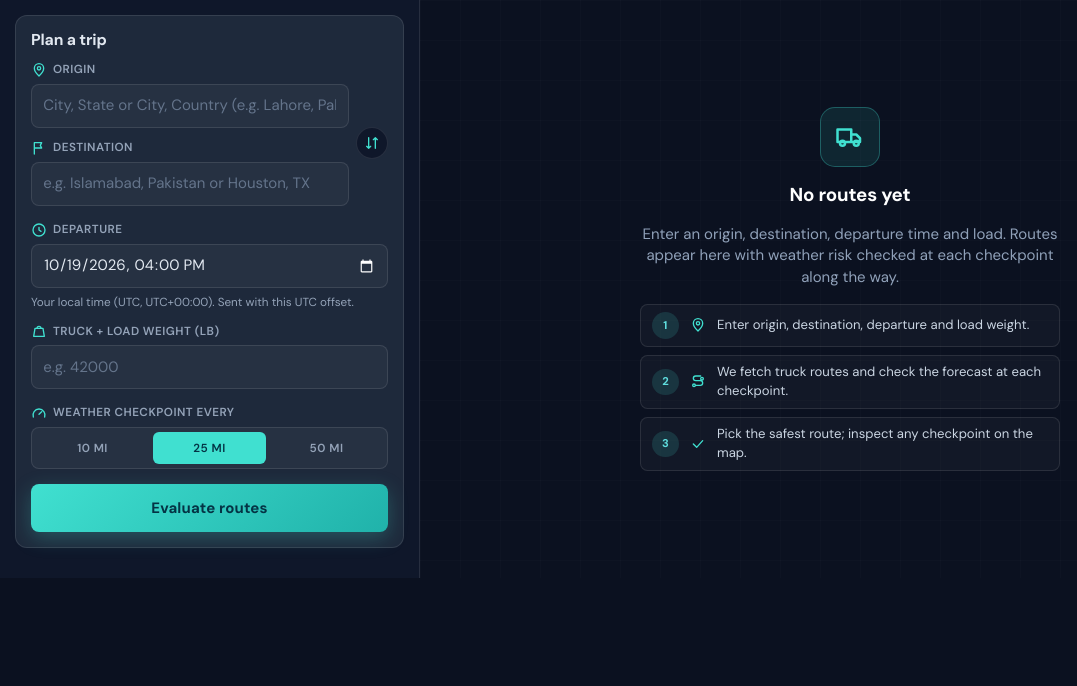
Test: RoutePlanner › shows server field errors and keeps entered values
This screenshot has width=1077, height=686.
Type "Waco, TX" into the dropdown labelled "Origin". click: (190, 106)
box: [31, 84, 348, 128]
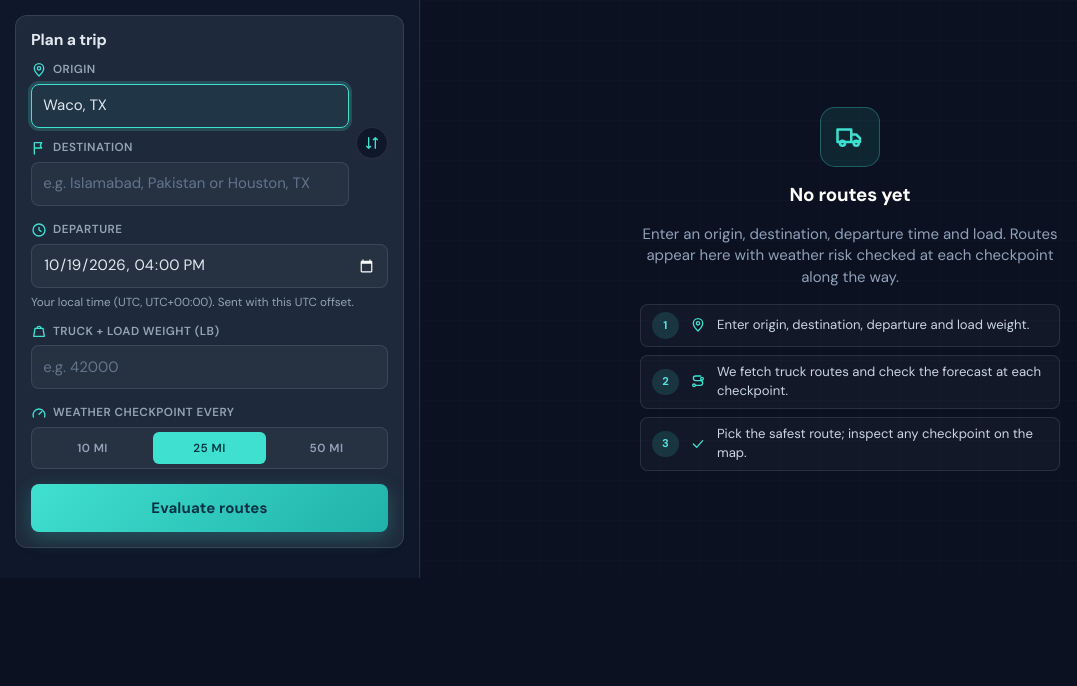
Type "Temple, TX" into the dropdown labelled "Destination". click: (190, 184)
box: [31, 162, 348, 206]
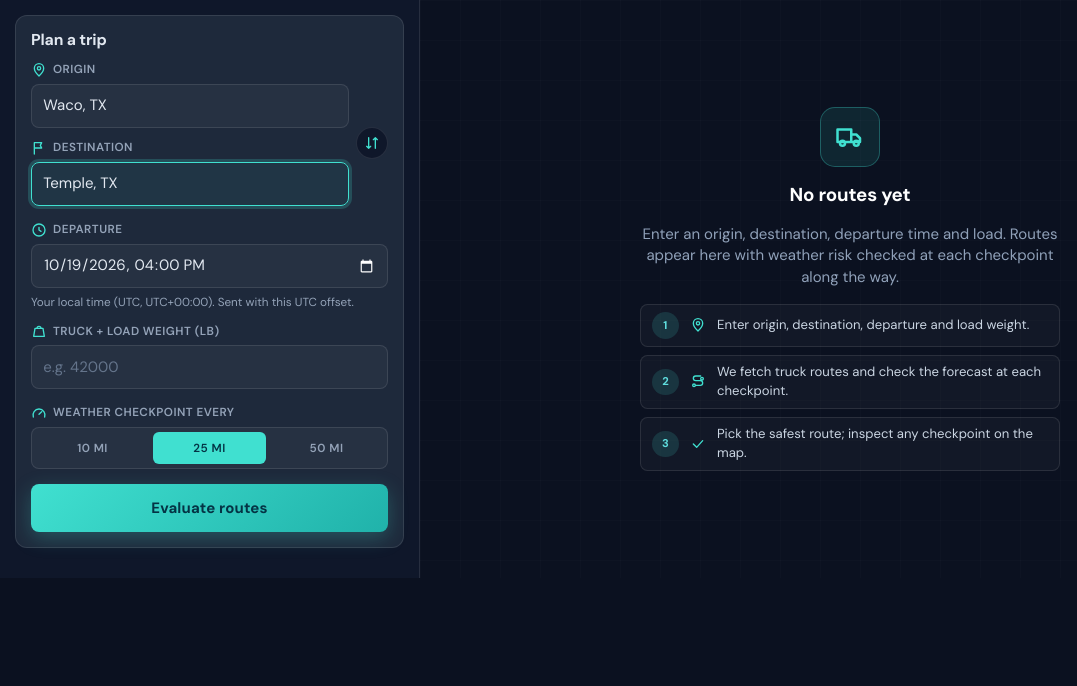
Replace the text in the field labelled "Departure" with "2026-10-19T08:00". click: (210, 266)
box: [31, 244, 388, 288]
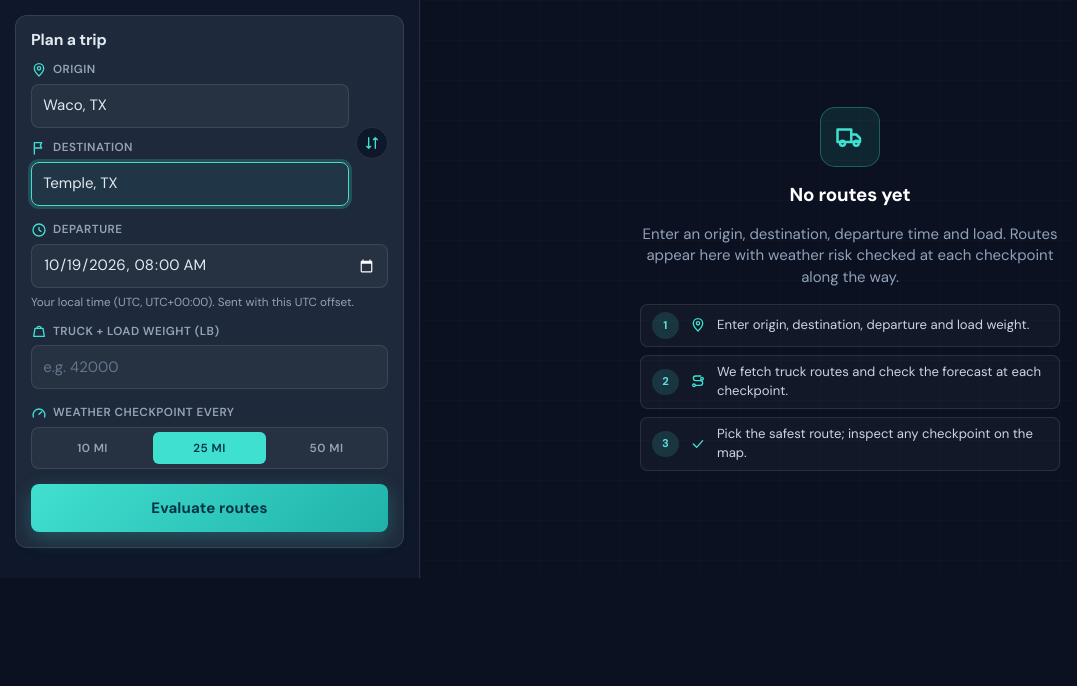
Type "42000" into the number field labelled "Truck + load weight (lb)". click: (210, 368)
box: [31, 346, 388, 390]
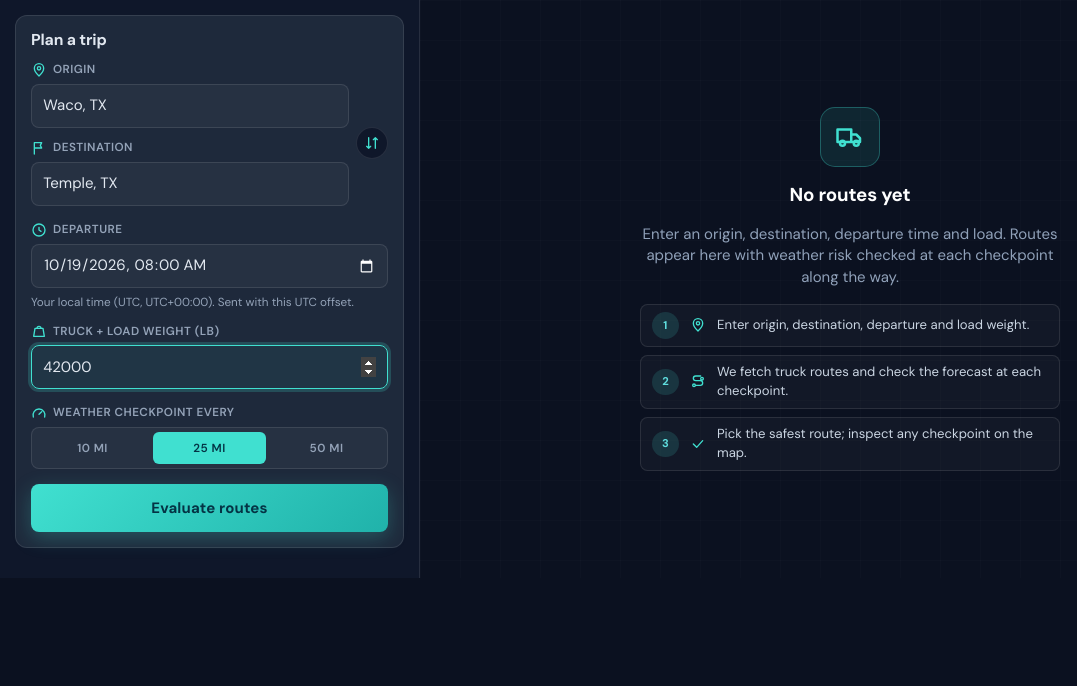
Click the button "Evaluate routes". click: (210, 508)
box: [31, 484, 388, 532]
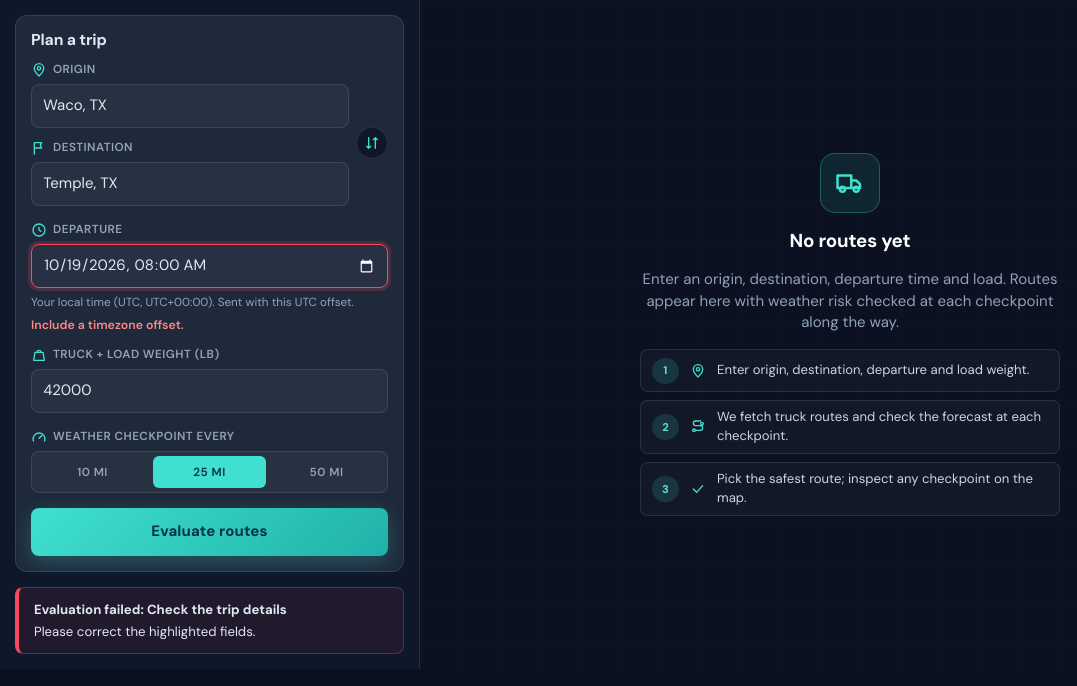
Now the text "Evaluation failed: Check the trip details" is shown, box [34, 600, 287, 618]
Now the text "Include a timezone offset." is shown, box [31, 317, 184, 333]
